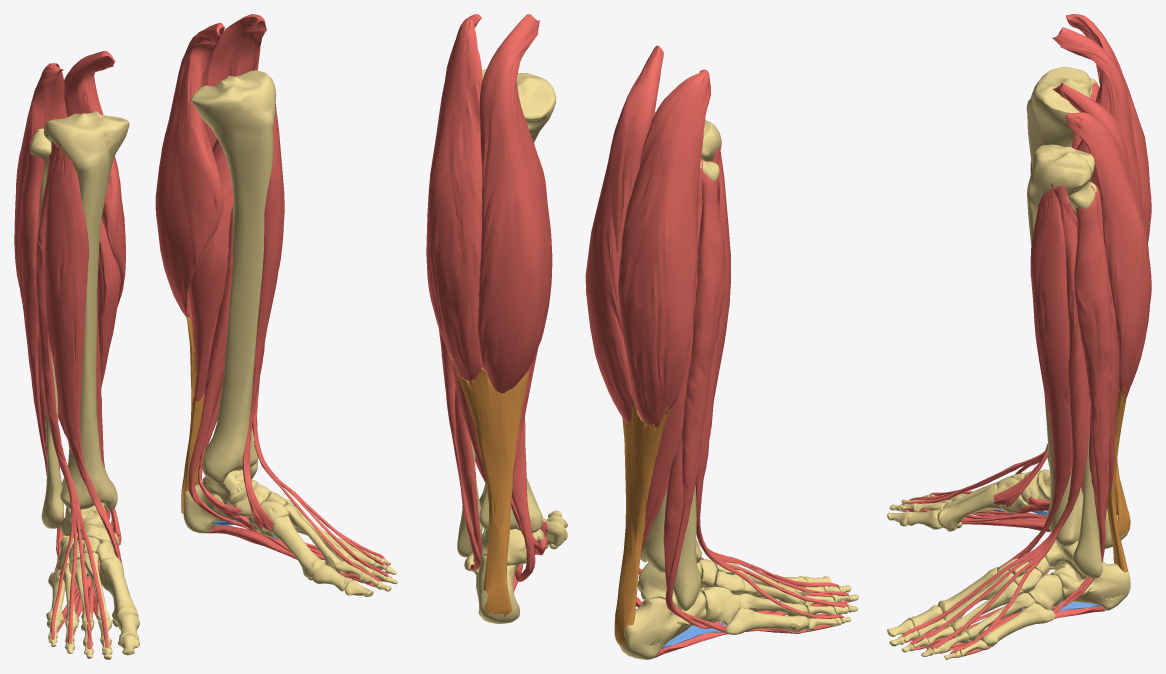
3 renders of one model, left to right at view 1: azimuth 30°, elevation 25°; view 2: azimuth 150°, elevation 25°; view 3: azimuth 270°, elevation 25°, orthographic. The views are drawn at different scales.
Parts seen in each view (by area): view 1: knee:tibia:isa:FJ3282, ankle-foot:gastrocnemius:isa:FJ1397M, ankle-foot:tibialis-anterior:isa:FJ1439, knee:tibia:isa:FJ3387, ankle-foot:extensor-digitorum-longus:isa:FJ1406, ankle-foot:soleus:isa:FJ1437M, ankle-foot:tibialis-anterior:isa:FJ1439M, ankle-foot:fibularis-longus:isa:FJ1410, ankle-foot:gastrocnemius:isa:FJ1397, ankle-foot:flexor-digitorum-longus:isa:FJ1414M, ankle-foot:gastrocnemius:isa:FJ1394M, ankle-foot:gastrocnemius:isa:FJ1394 (+15 smaller); view 2: ankle-foot:gastrocnemius:isa:FJ1394, ankle-foot:gastrocnemius:isa:FJ1397M, ankle-foot:gastrocnemius:isa:FJ1394M, ankle-foot:gastrocnemius:isa:FJ1397, ankle-foot:fibularis-longus:isa:FJ1410, supplemental:calcaneal-tendon:isa:FJ1405M, supplemental:calcaneal-tendon:isa:FJ1405, ankle-foot:extensor-digitorum-longus:isa:FJ1406, ankle-foot:calcaneus:isa:FJ3360, knee:tibia:isa:FJ3282, ankle-foot:soleus:isa:FJ1437, knee:fibula:isa:FJ3366 (+16 smaller); view 3: ankle-foot:gastrocnemius:isa:FJ1394M, ankle-foot:tibialis-anterior:isa:FJ1439M, ankle-foot:fibularis-longus:isa:FJ1410M, ankle-foot:extensor-digitorum-longus:isa:FJ1406M, knee:tibia:isa:FJ3282, knee:tibia:isa:FJ3387, ankle-foot:gastrocnemius:isa:FJ1397, knee:fibula:isa:FJ3260, ankle-foot:gastrocnemius:isa:FJ1394, ankle-foot:calcaneus:isa:FJ3256, ankle-foot:soleus:isa:FJ1437M, ankle-foot:gastrocnemius:isa:FJ1397M (+19 smaller).
Part boxes in pixels (x1,y1,x2,y2): knee:tibia:isa:FJ3282: (191, 70, 276, 483); ankle-foot:gastrocnemius:isa:FJ1397M: (155, 22, 224, 321); ankle-foot:tibialis-anterior:isa:FJ1439: (45, 148, 121, 563); knee:tibia:isa:FJ3387: (43, 111, 129, 510); ankle-foot:extensor-digitorum-longus:isa:FJ1406: (36, 141, 108, 650); ankle-foot:soleus:isa:FJ1437M: (188, 138, 233, 406); ankle-foot:tibialis-anterior:isa:FJ1439M: (242, 102, 284, 531); ankle-foot:fibularis-longus:isa:FJ1410: (17, 144, 99, 571); ankle-foot:gastrocnemius:isa:FJ1397: (64, 50, 125, 306); ankle-foot:flexor-digitorum-longus:isa:FJ1414M: (188, 207, 386, 587); ankle-foot:gastrocnemius:isa:FJ1394M: (206, 14, 266, 149); ankle-foot:gastrocnemius:isa:FJ1394: (14, 63, 67, 286); ankle-foot:gastrocnemius:isa:FJ1394: (618, 69, 710, 427); ankle-foot:gastrocnemius:isa:FJ1397M: (478, 14, 552, 393); ankle-foot:gastrocnemius:isa:FJ1394M: (426, 14, 482, 381); ankle-foot:gastrocnemius:isa:FJ1397: (585, 45, 663, 423); ankle-foot:fibularis-longus:isa:FJ1410: (665, 172, 725, 628); supplemental:calcaneal-tendon:isa:FJ1405M: (448, 353, 528, 616); supplemental:calcaneal-tendon:isa:FJ1405: (614, 405, 670, 646); ankle-foot:extensor-digitorum-longus:isa:FJ1406: (695, 141, 848, 618); ankle-foot:calcaneus:isa:FJ3360: (618, 589, 706, 659); knee:tibia:isa:FJ3282: (479, 69, 556, 532); ankle-foot:soleus:isa:FJ1437: (644, 159, 703, 526); knee:fibula:isa:FJ3366: (673, 158, 719, 611); ankle-foot:gastrocnemius:isa:FJ1394M: (1066, 112, 1151, 403); ankle-foot:tibialis-anterior:isa:FJ1439M: (999, 188, 1072, 566); ankle-foot:fibularis-longus:isa:FJ1410M: (1051, 197, 1111, 609); ankle-foot:extensor-digitorum-longus:isa:FJ1406M: (901, 183, 1090, 653); knee:tibia:isa:FJ3282: (1027, 144, 1094, 546); knee:tibia:isa:FJ3387: (1026, 67, 1091, 467); ankle-foot:gastrocnemius:isa:FJ1397: (1052, 27, 1142, 216); knee:fibula:isa:FJ3260: (1068, 181, 1102, 578); ankle-foot:gastrocnemius:isa:FJ1394: (1066, 14, 1151, 243); ankle-foot:calcaneus:isa:FJ3256: (1050, 560, 1130, 610); ankle-foot:soleus:isa:FJ1437M: (1073, 182, 1119, 492); ankle-foot:gastrocnemius:isa:FJ1397M: (1052, 83, 1133, 210).
Size of the model in its own units: 0.3387 by 0.5049 by 0.2302.
